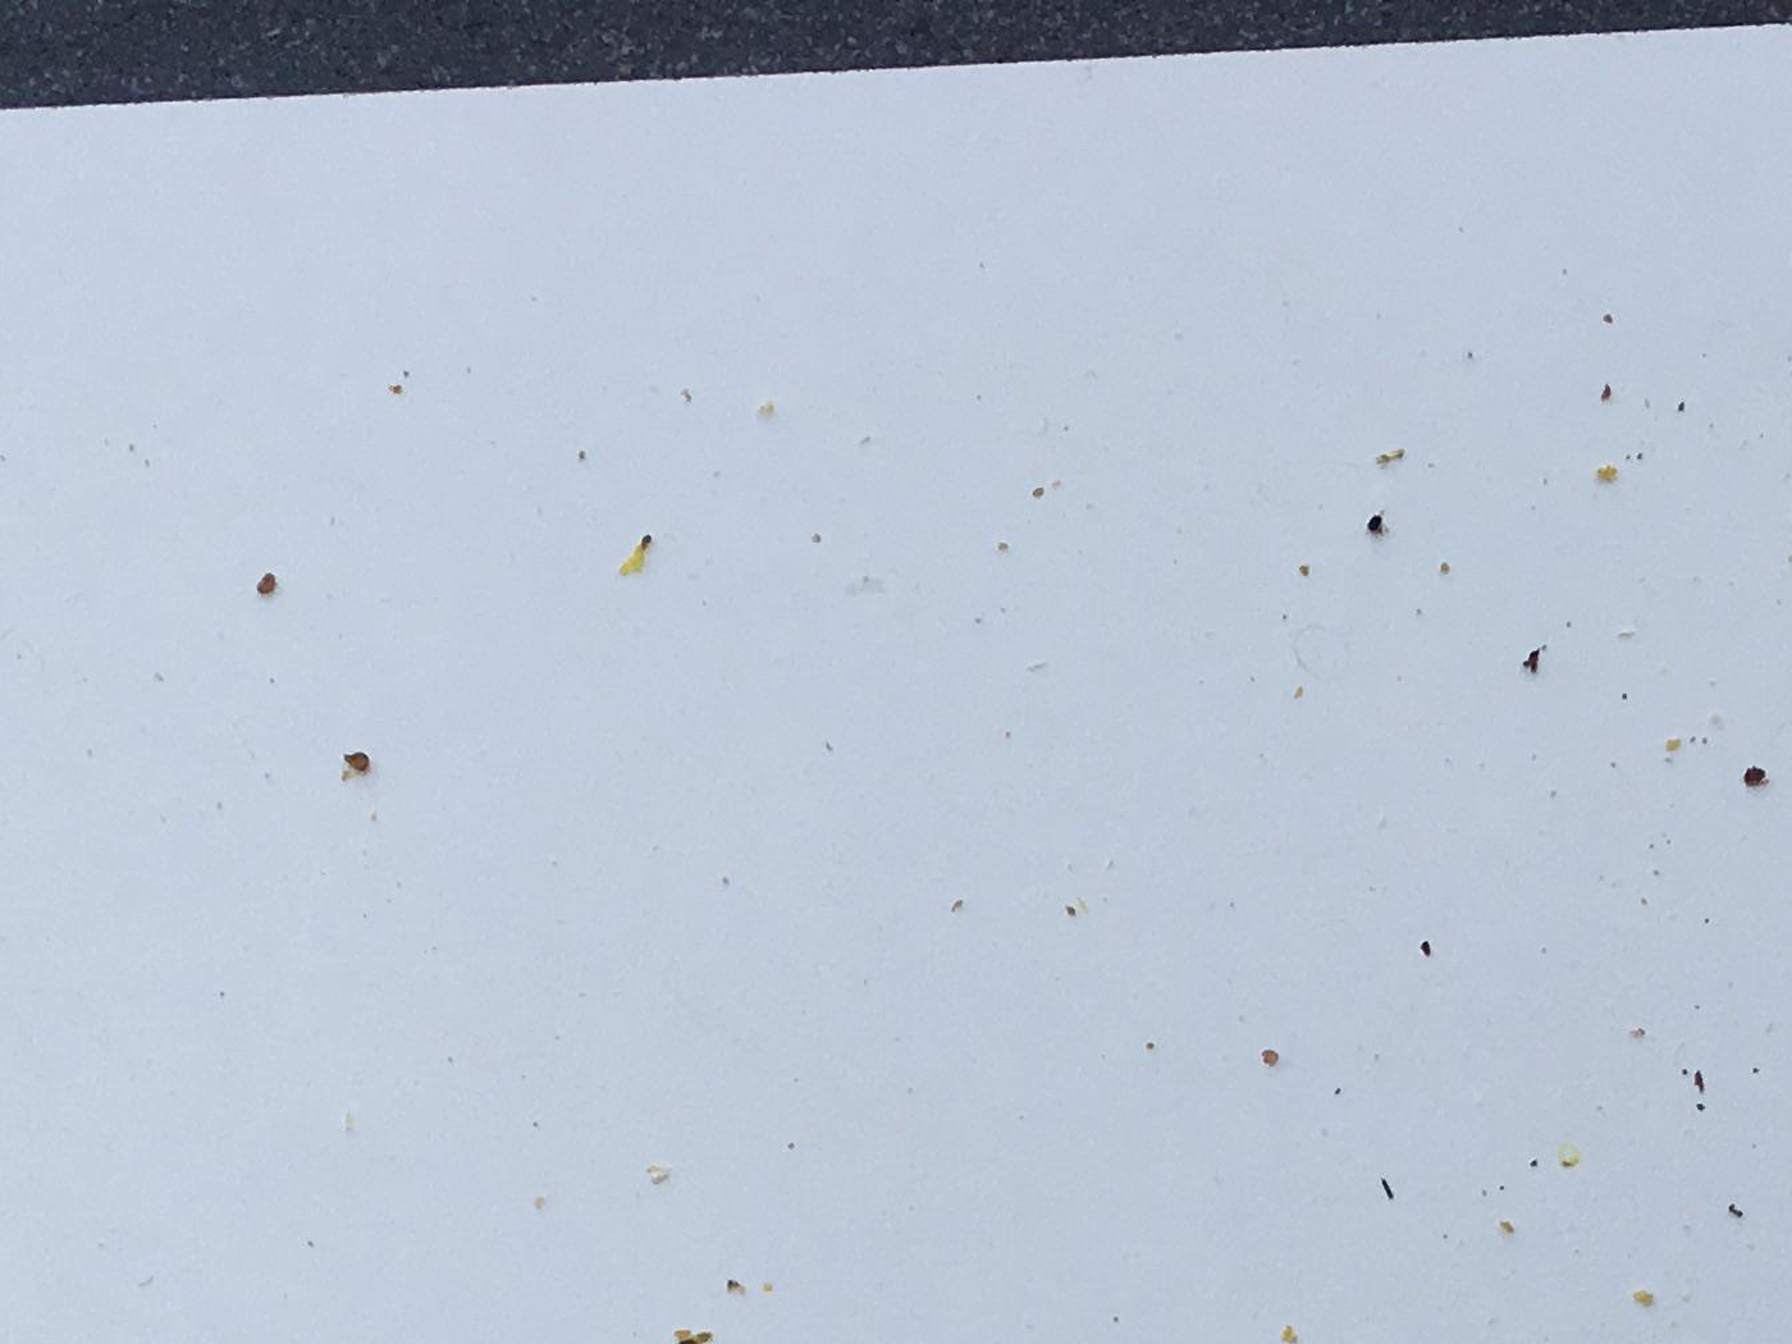Varroa: (244, 560, 286, 601), (1741, 762, 1774, 798)
